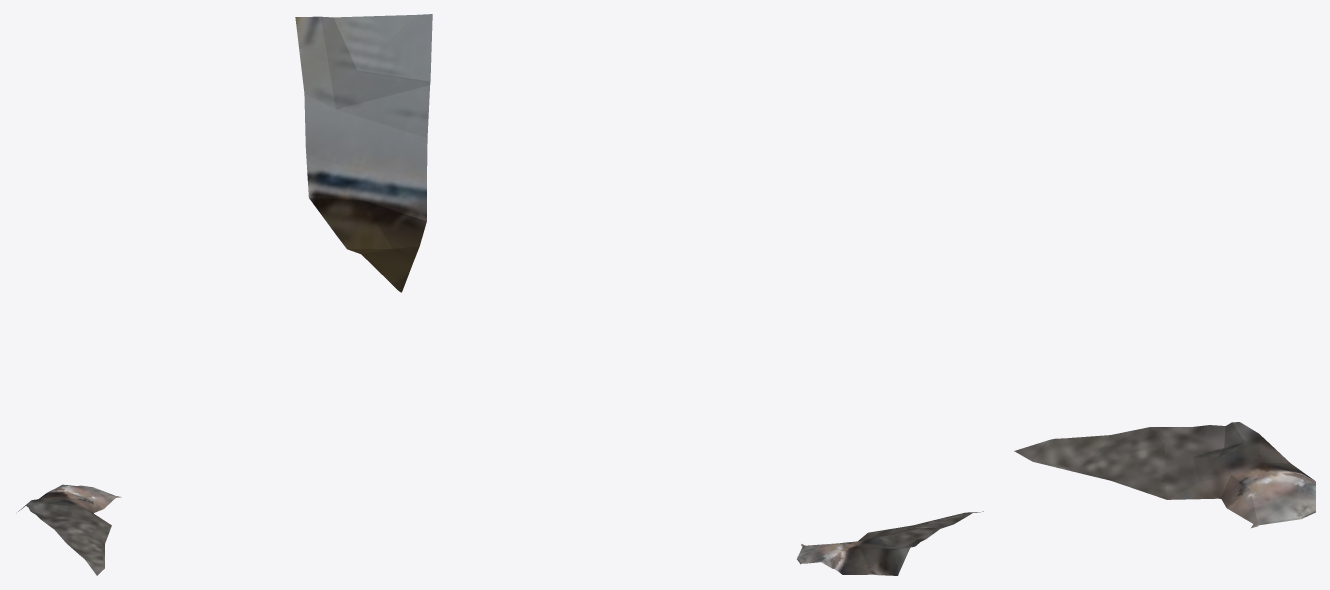
The picture shows the model from 3 angles, left to right: view 1: azimuth 30°, elevation 25°; view 2: azimuth 150°, elevation 25°; view 3: azimuth 270°, elevation 25°; orthographic projection. The views are drawn at different scales.
Size of the model in its own units: 0.8374 by 0.8374 by 0.3448.
Materials: 1 (1 with a texture image).
